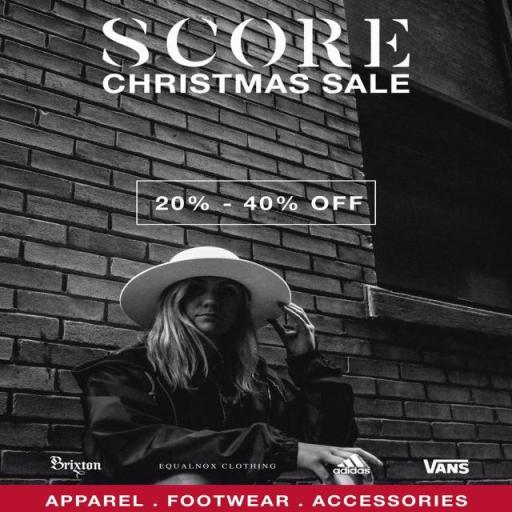Adidas: (330, 449, 373, 479)
